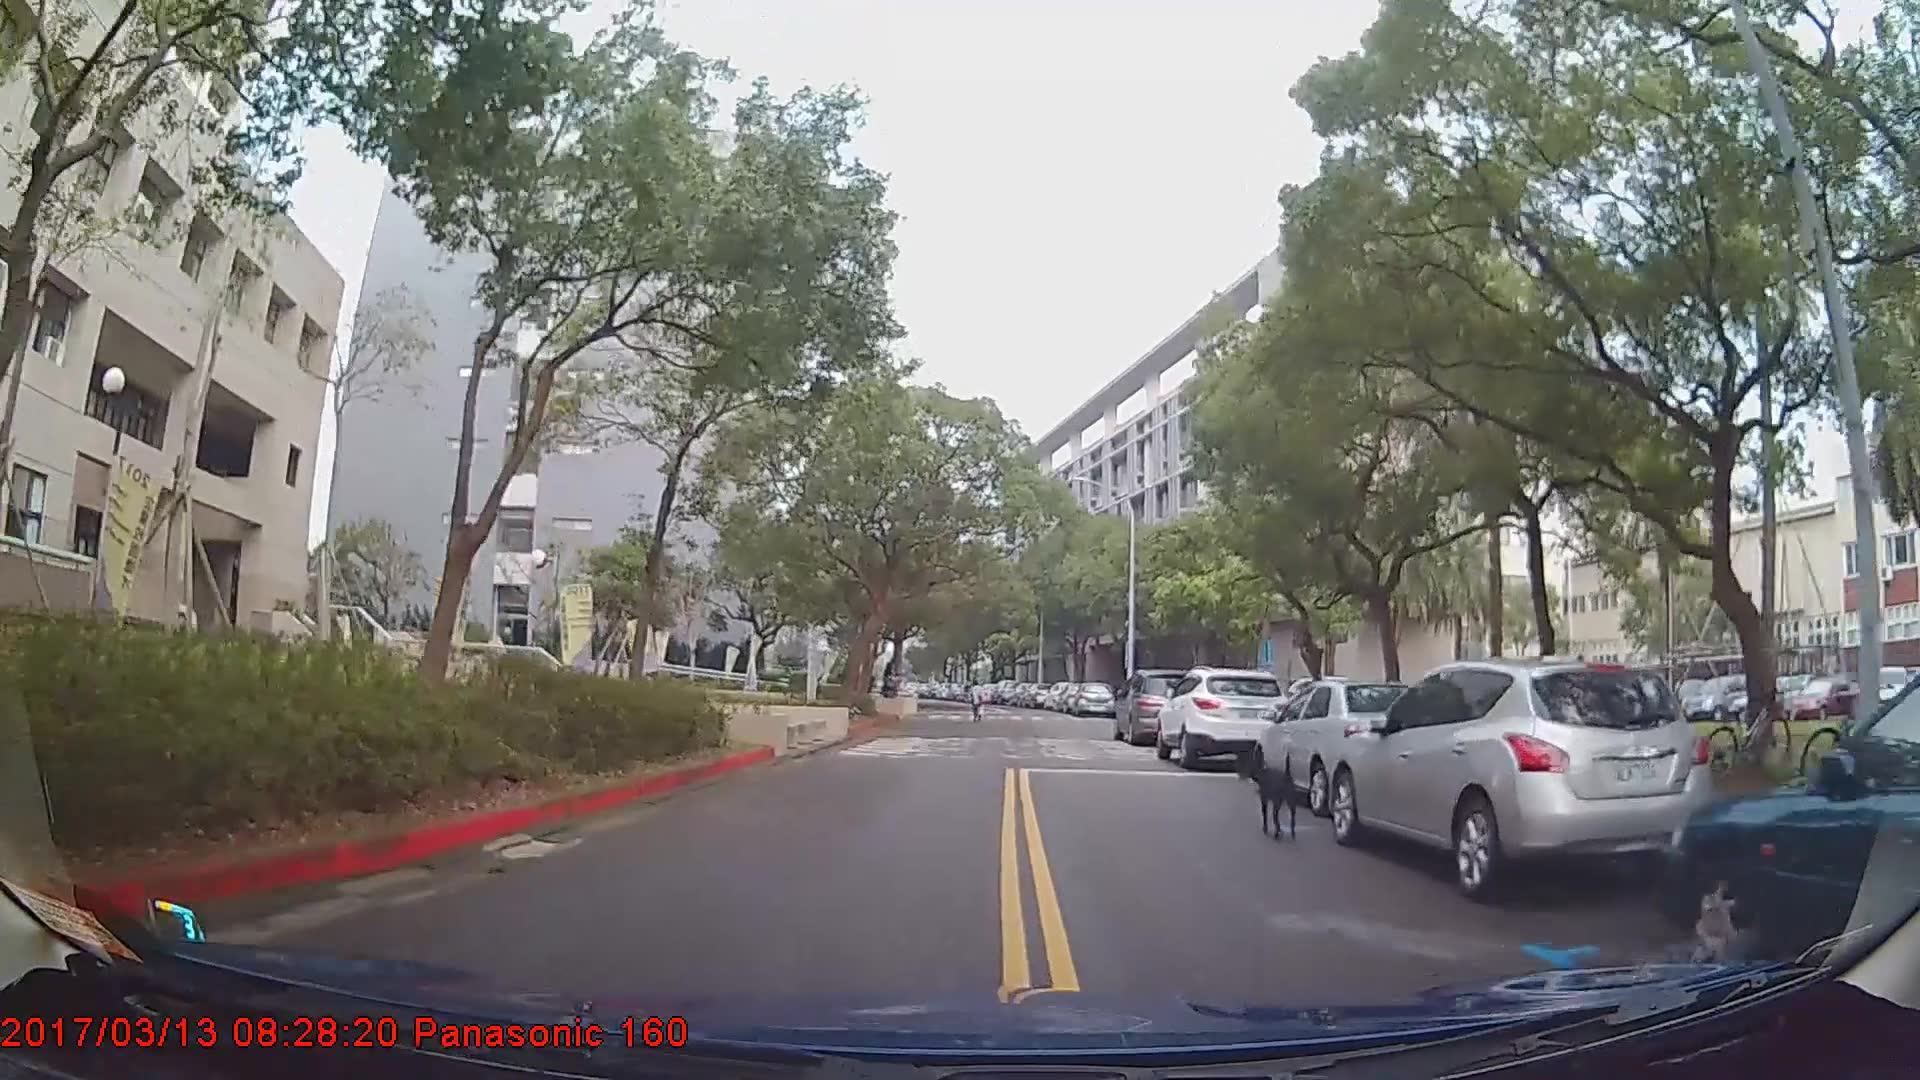pedestrian: (967, 681, 987, 727)
vehicle: (1331, 654, 1713, 902), (1660, 684, 1920, 973), (1254, 675, 1451, 815), (1157, 665, 1293, 767), (1112, 668, 1213, 743), (1072, 681, 1115, 719), (988, 675, 1016, 703)
